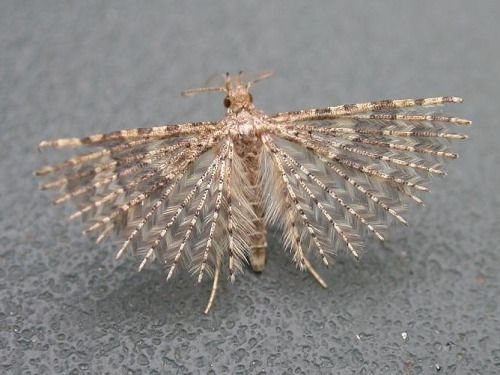Alucitidae: (34, 60, 479, 317)
moth: (32, 58, 477, 315)
